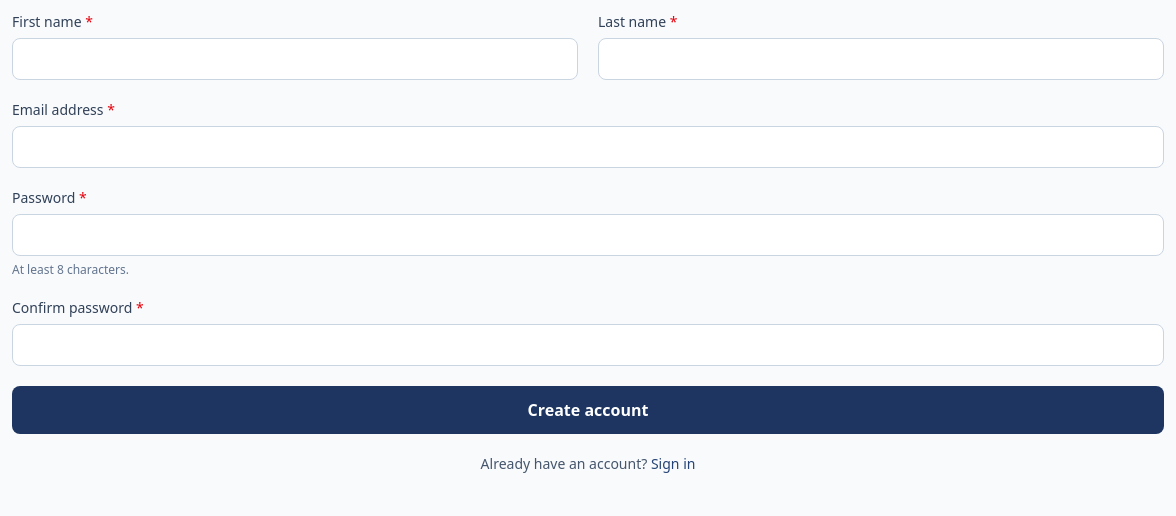
Test: SignupForm › rejects a mismatched password confirmation
Type "Ada" into the field labelled "First name *".
click(295, 59); type("Ada")  # box [12,38,578,80]
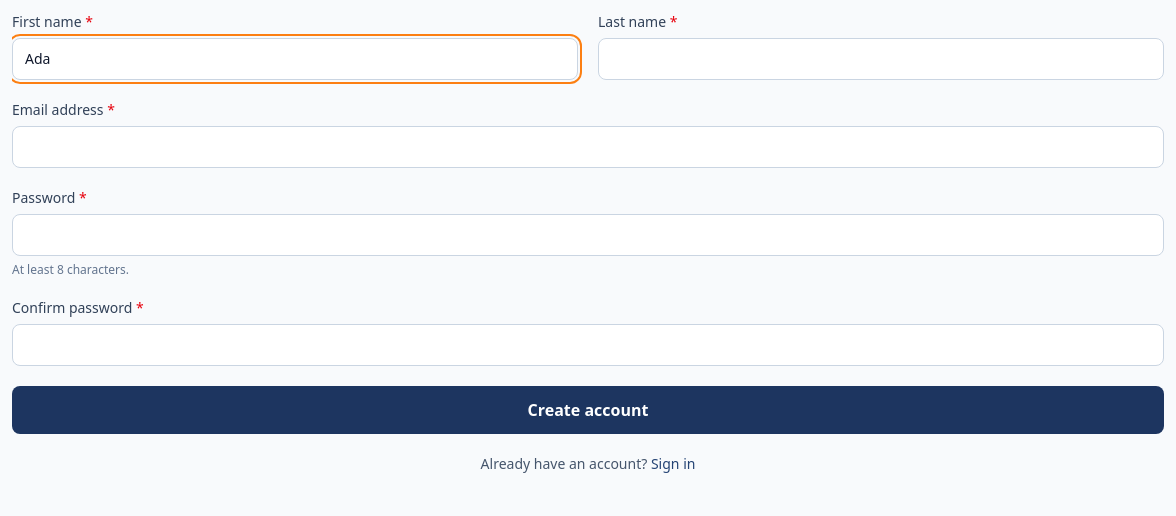
Type "Alpha" into the field labelled "Last name *".
click(881, 59); type("Alpha")  # box [598,38,1164,80]
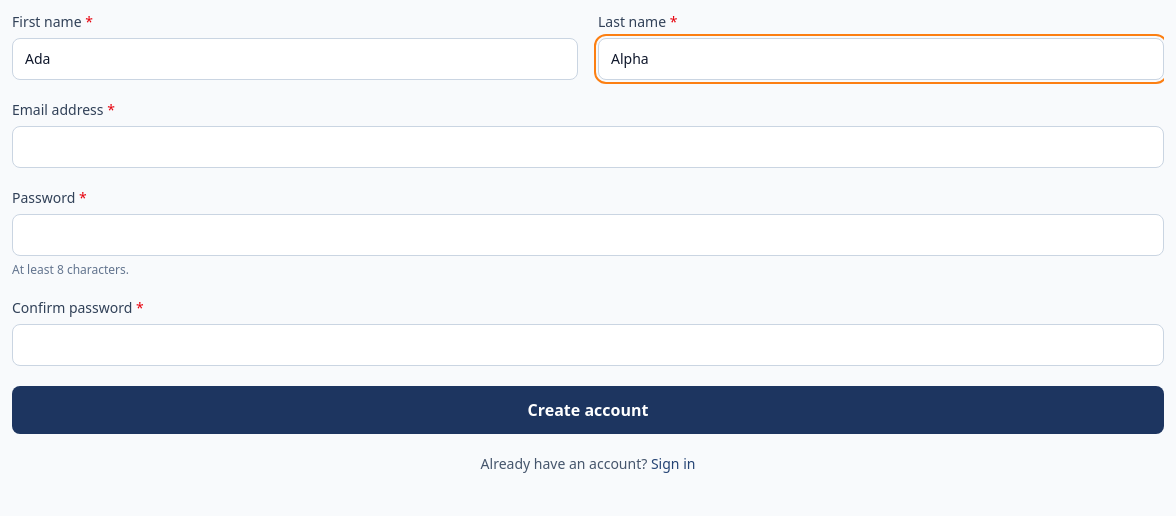
Type "ada@example.com" into the field labelled "Email address *".
click(588, 147); type("ada@example.com")  # box [12,126,1164,168]
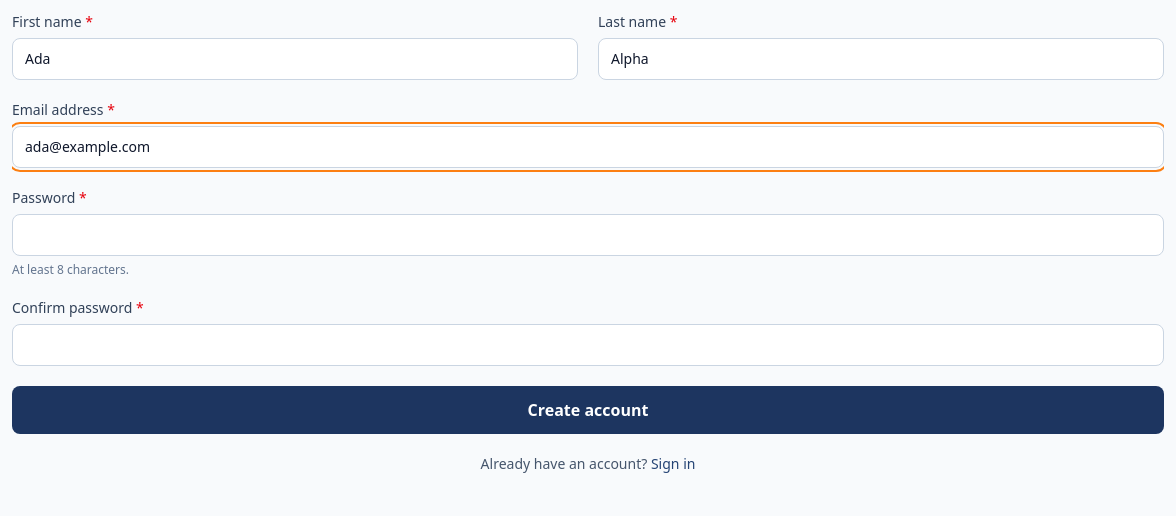
Type "correct-horse" into the password field labelled "Password *".
click(588, 235); type("correct-horse")  # box [12,214,1164,256]
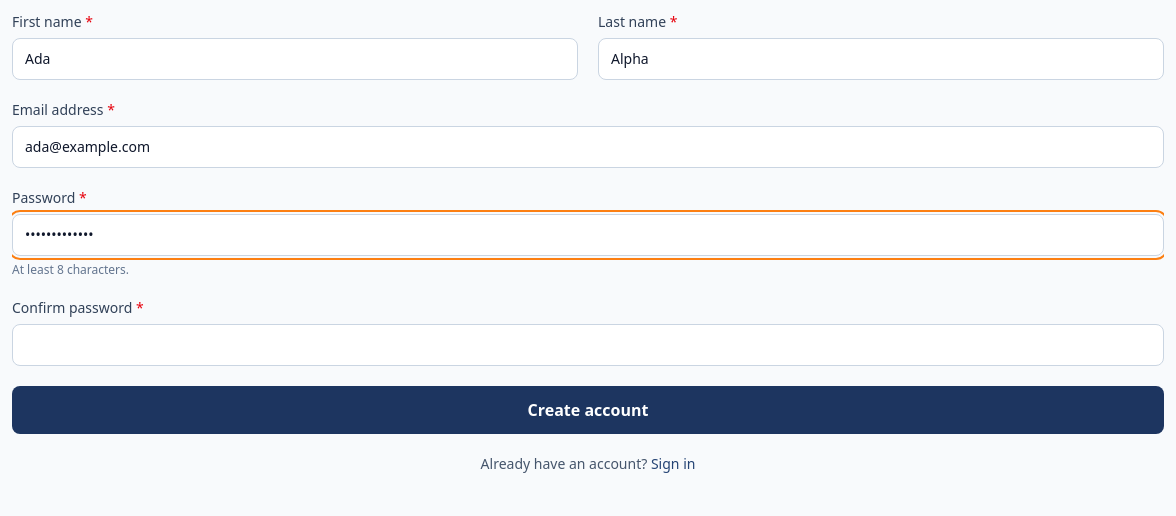
Type "different" into the password field labelled "Confirm password *".
click(588, 345); type("different")  # box [12,324,1164,366]
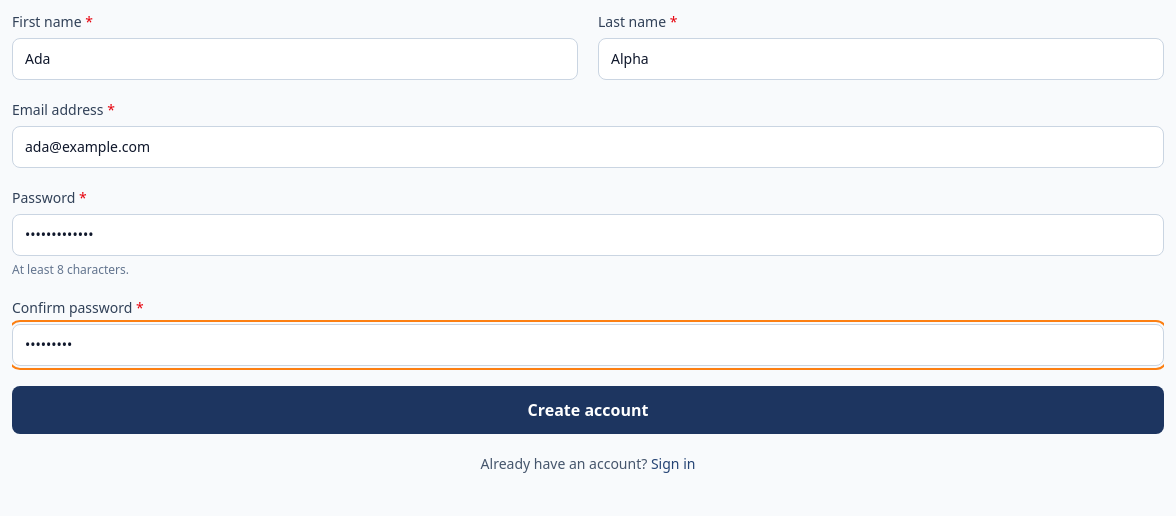
Click the button "Create account".
click(588, 410)  # box [12,386,1164,434]
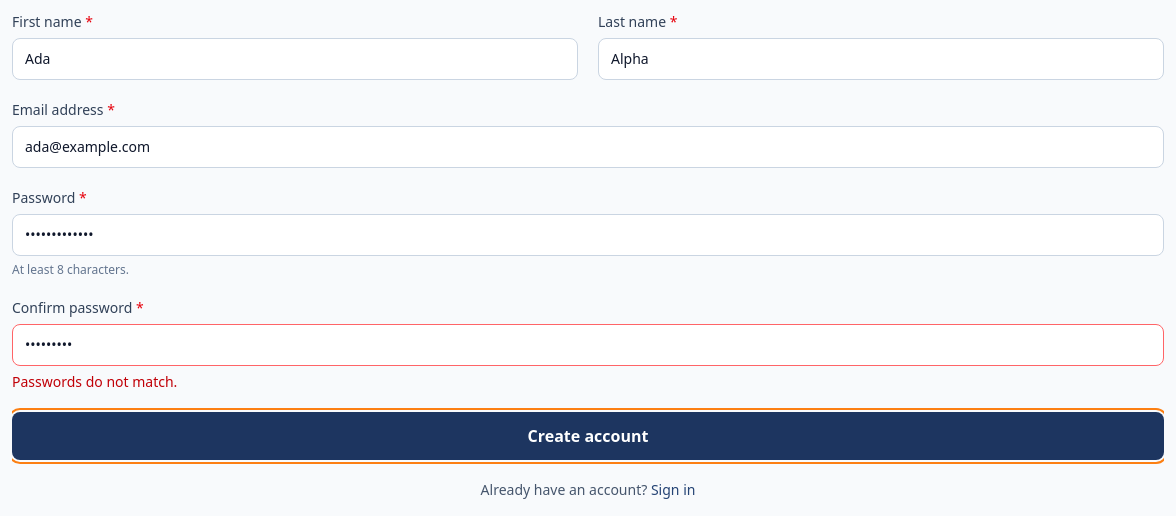
Expected: the text "Passwords do not match." is shown, [12,372,177,391]
